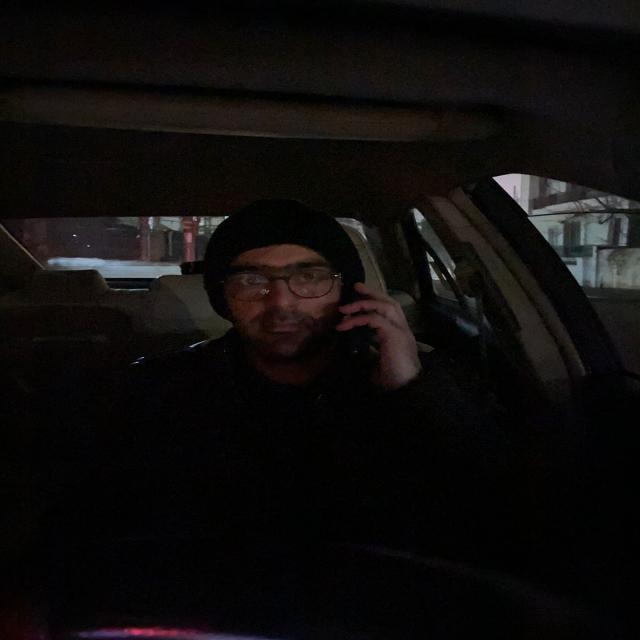mobile: (334, 276, 389, 378)
person: (210, 216, 341, 359)
